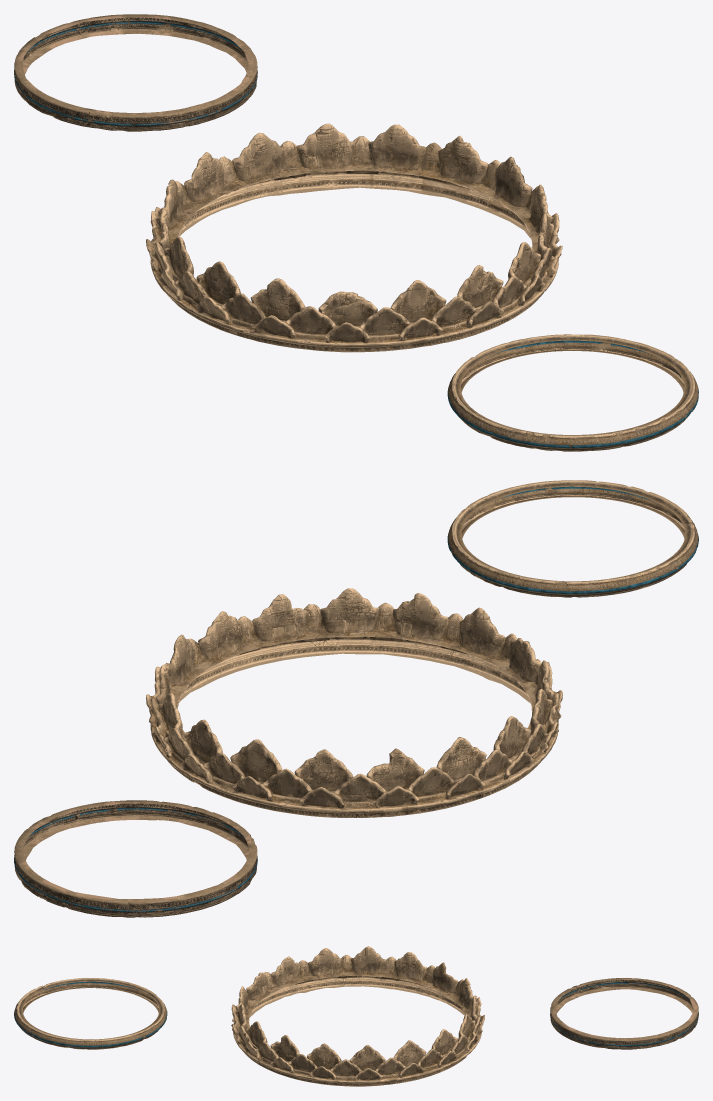
The picture shows the model from 3 angles, top to bottom: view 1: azimuth 30°, elevation 25°; view 2: azimuth 150°, elevation 25°; view 3: azimuth 270°, elevation 25°; orthographic projection. The views are drawn at different scales.
Parts seen in each view (by area): view 1: DesertTemple_LeafRing_03_0, DesertTemple_Fortress_Dome_Ring_01_1, DesertTemple_Fortress_Dome_Ring_02_2; view 2: DesertTemple_LeafRing_03_0, DesertTemple_Fortress_Dome_Ring_01_1, DesertTemple_Fortress_Dome_Ring_02_2; view 3: DesertTemple_LeafRing_03_0, DesertTemple_Fortress_Dome_Ring_01_1, DesertTemple_Fortress_Dome_Ring_02_2.
Boxes of the visible parts, <box> form: DesertTemple_LeafRing_03_0: <box>146,123,562,352</box>; DesertTemple_Fortress_Dome_Ring_01_1: <box>14,14,257,131</box>; DesertTemple_Fortress_Dome_Ring_02_2: <box>447,334,698,451</box>; DesertTemple_LeafRing_03_0: <box>146,588,562,817</box>; DesertTemple_Fortress_Dome_Ring_01_1: <box>14,800,257,917</box>; DesertTemple_Fortress_Dome_Ring_02_2: <box>447,480,698,597</box>; DesertTemple_LeafRing_03_0: <box>231,946,484,1086</box>; DesertTemple_Fortress_Dome_Ring_01_1: <box>550,978,698,1049</box>; DesertTemple_Fortress_Dome_Ring_02_2: <box>14,978,167,1049</box>.
Bounding box in the file's own units: 14.3 × 2.51 × 38.5.
Materials: 3 (3 with a texture image).
